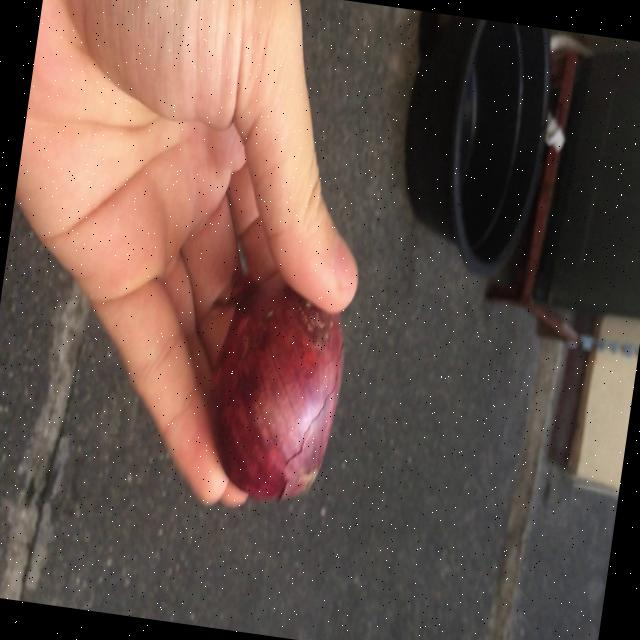Onion: (209, 273, 342, 500)
